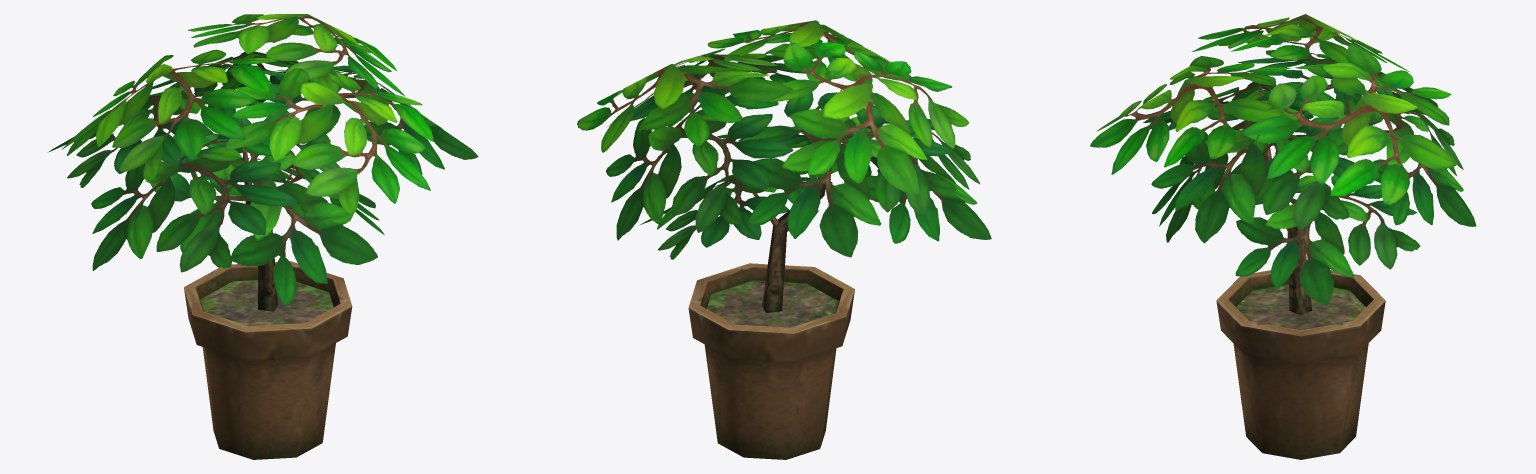
File: wm_灌木盆栽10.fbx
3 renders of one model, left to right at view 1: azimuth 30°, elevation 25°; view 2: azimuth 150°, elevation 25°; view 3: azimuth 270°, elevation 25°, orthographic. The views are drawn at different scales.
Parts seen in each view (by area): view 1: wm_灌木盆栽10; view 2: wm_灌木盆栽10; view 3: wm_灌木盆栽10.
Boxes of the visible parts, x1=… form: wm_灌木盆栽10: x1=48, y1=14, x2=478, y2=459; wm_灌木盆栽10: x1=577, y1=20, x2=991, y2=459; wm_灌木盆栽10: x1=1090, y1=14, x2=1476, y2=459.
Size of the model in its own units: 157 by 141 by 157.
